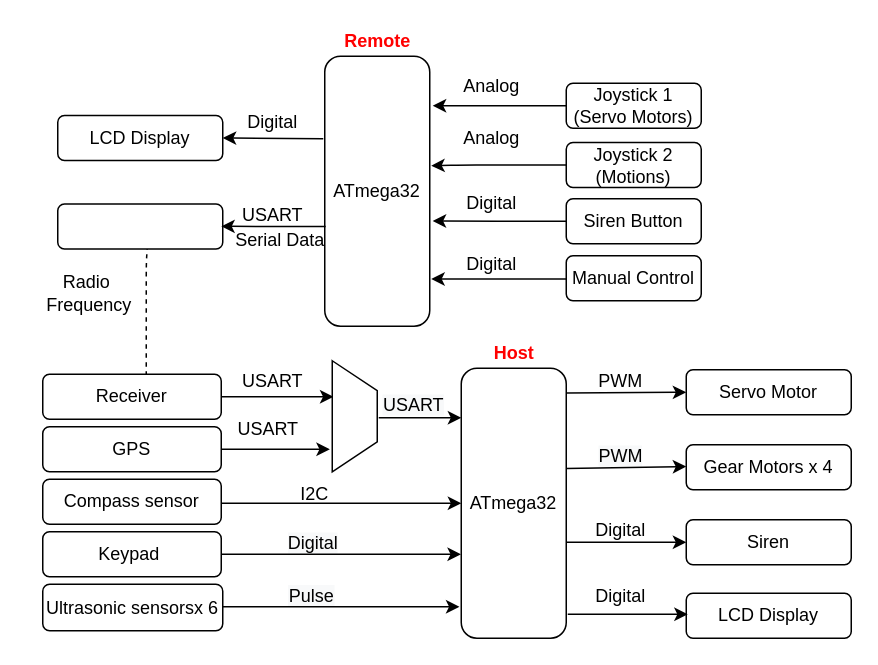
The diagram is 878 pixels wide and 665 high, and some of its shapes have lost their labels. The shapes that lost their labels are listed below. From the top down, each one's centre as x and y in pixels, then its label:
pixel 139 225: Transmitter
pixel 354 415: MUX
